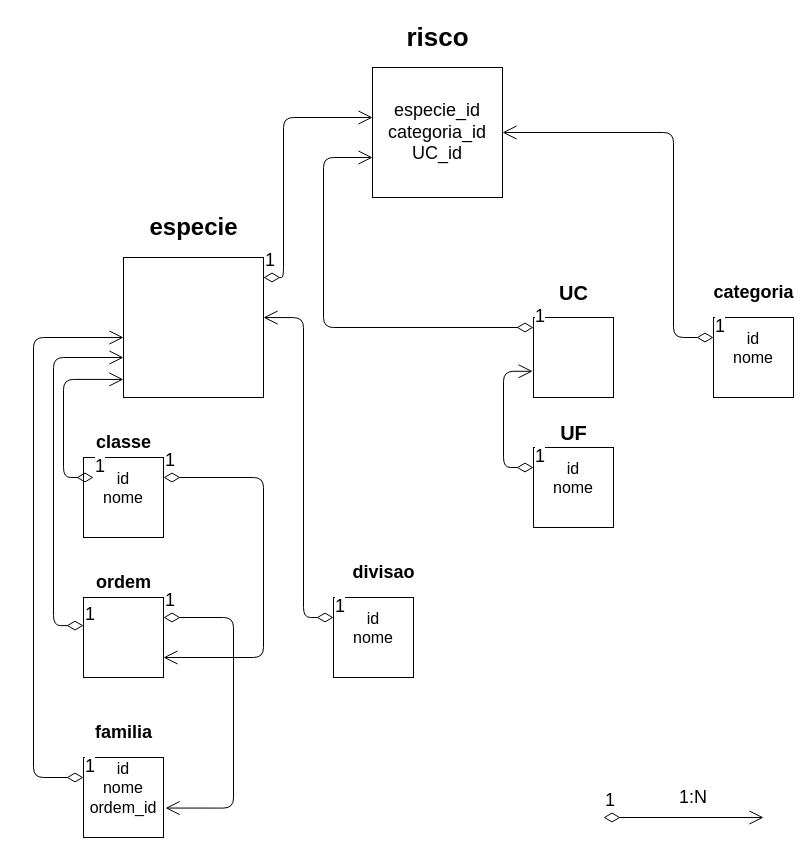
Image size: 811x855. Some labels were removed from this diagram. The box of each missing label's shape, as (x1, y1, x2, y2) in pixels:
id nome classe_id: (82, 596, 164, 678)
id nome divisao_id familia_id ordem_id classe_id: (122, 256, 264, 398)
id nome UF_id: (532, 316, 614, 398)
